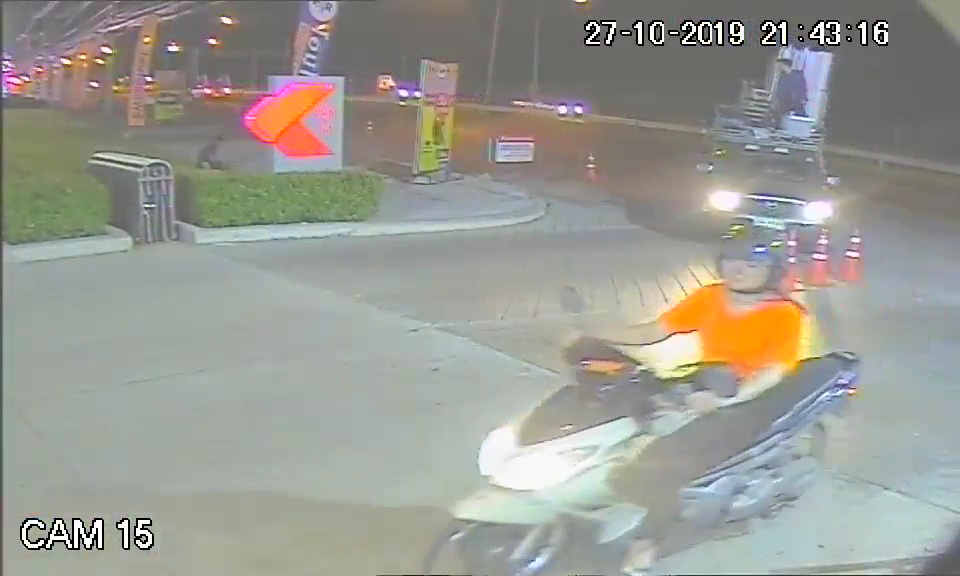motorcycle: (423, 339, 863, 572)
